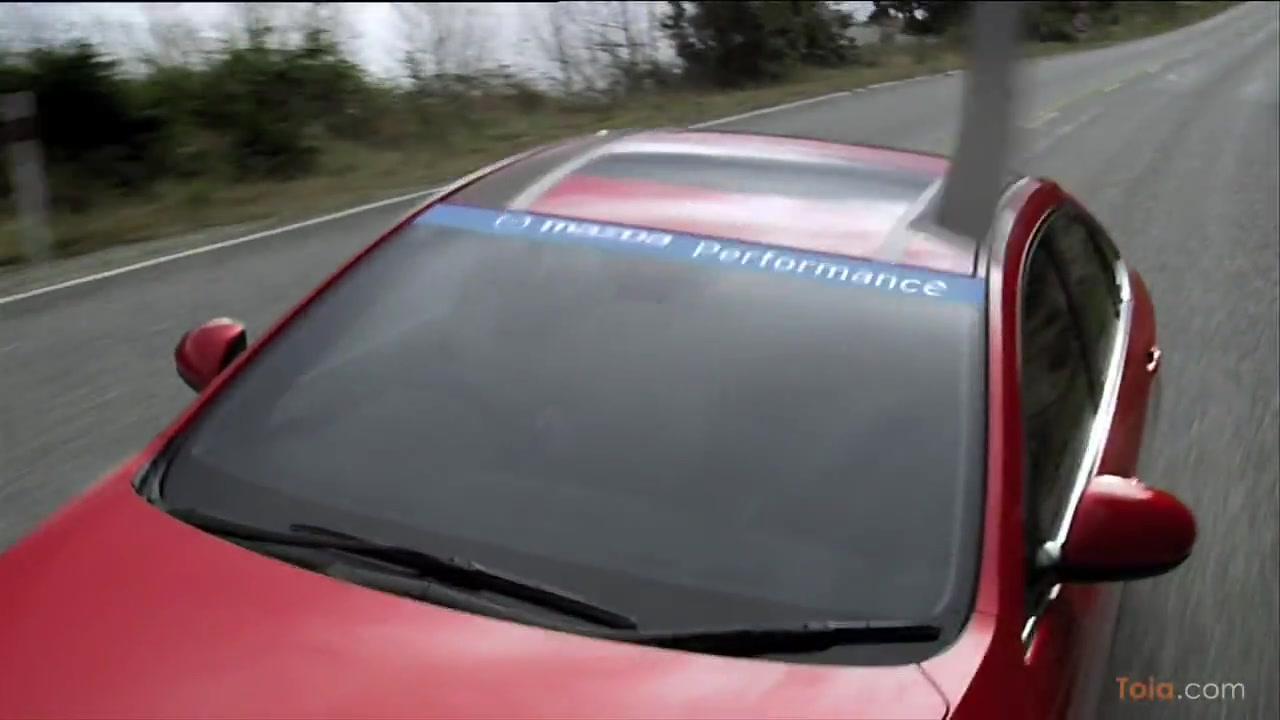car: (4, 119, 1209, 720)
